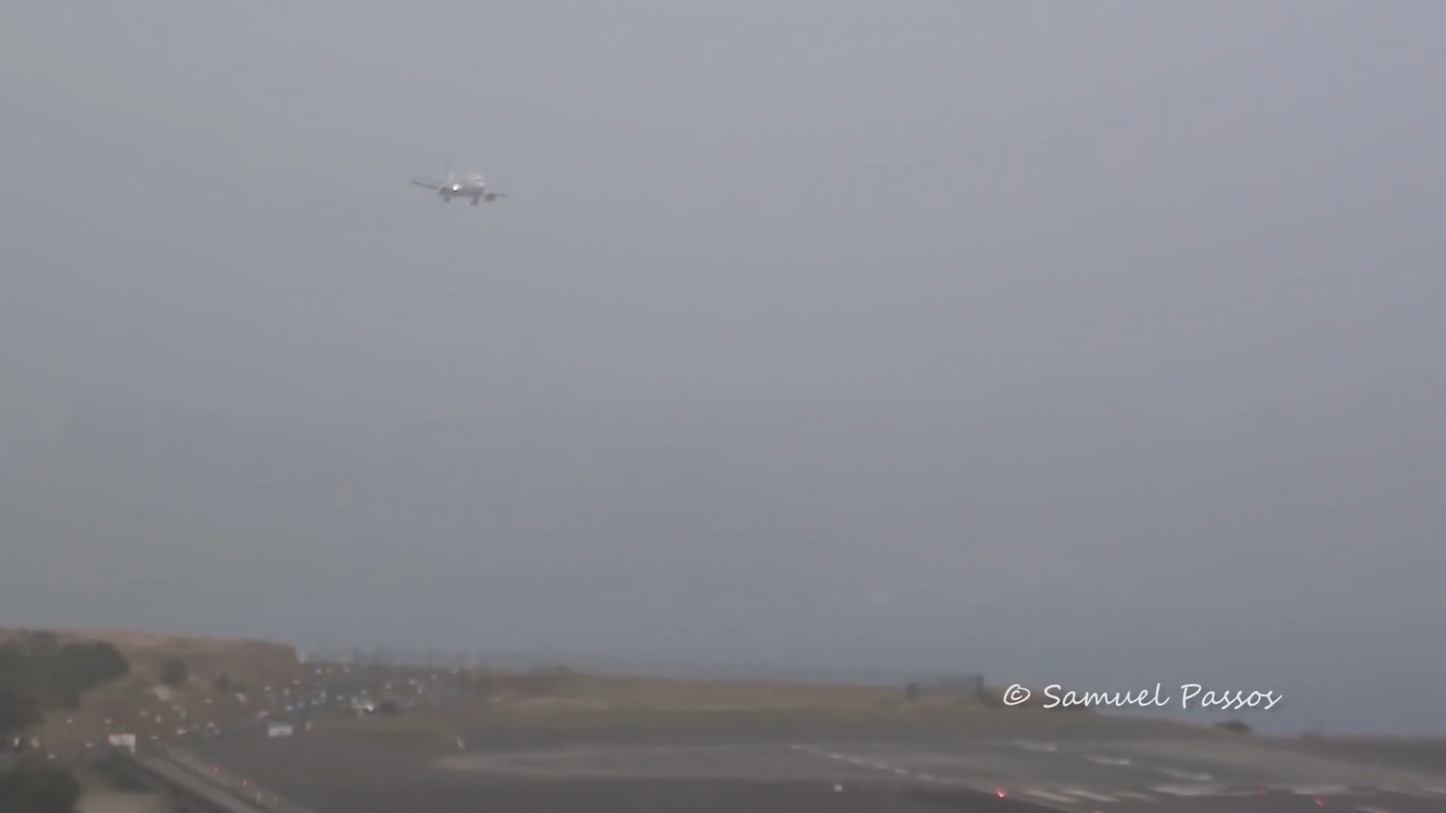not_drone: (405, 157, 518, 208)
